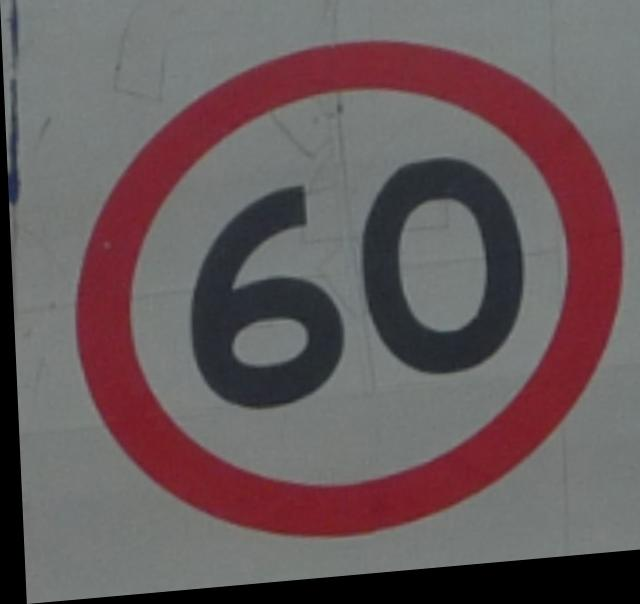limit60: (47, 13, 639, 577)
